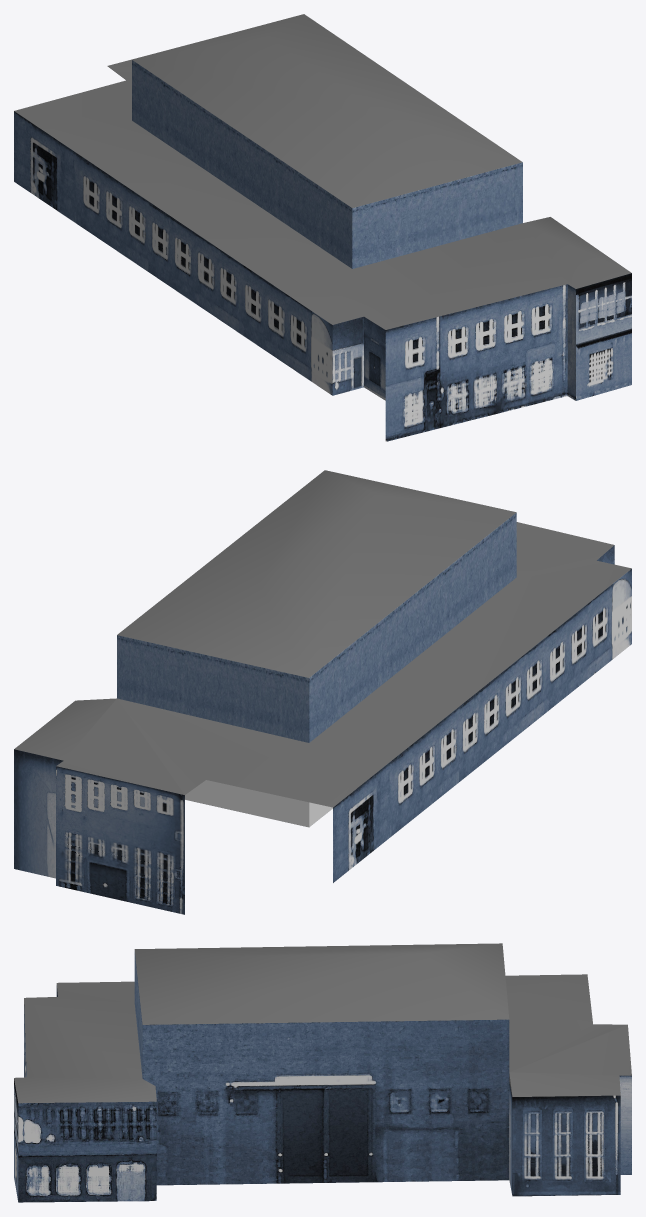
File: Binder-Bau.gltf
The picture shows the model from 3 angles, top to bottom: view 1: azimuth 30°, elevation 25°; view 2: azimuth 150°, elevation 25°; view 3: azimuth 270°, elevation 25°; orthographic projection. The views are drawn at different scales.
Parts seen in each view (by area): view 1: Dach.1; view 2: Dach.1; view 3: Dach.1.
Part boxes in pixels (bbox=[...]): Dach.1: bbox=[14, 14, 631, 441]; Dach.1: bbox=[14, 470, 631, 914]; Dach.1: bbox=[14, 943, 631, 1202].
Bounding box in the file's own units: 37.82 × 26 × 76.68.
Materials: 16 (15 with a texture image).
